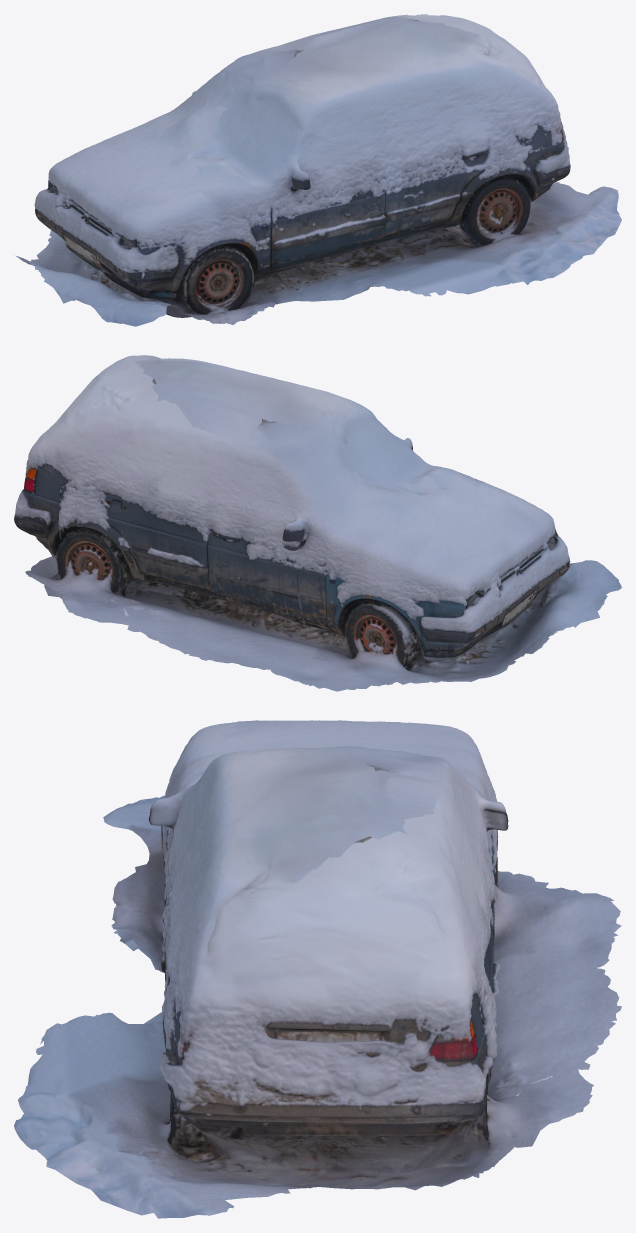
Rendered from abandoned_snow_carraw.glb.
3 renders of one model, top to bottom at view 1: azimuth 30°, elevation 25°; view 2: azimuth 150°, elevation 25°; view 3: azimuth 270°, elevation 25°, orthographic. The views are drawn at different scales.
Visible parts, largest first — view 1: Model; view 2: Model; view 3: Model.
Part boxes in pixels (x1,y1,x2,y2): Model: (16,14,621,326); Model: (14,355,621,691); Model: (14,720,621,1218).
Bounding box in the file's own units: 5.04 × 1.75 × 3.19.
1 material, 1 textured.
